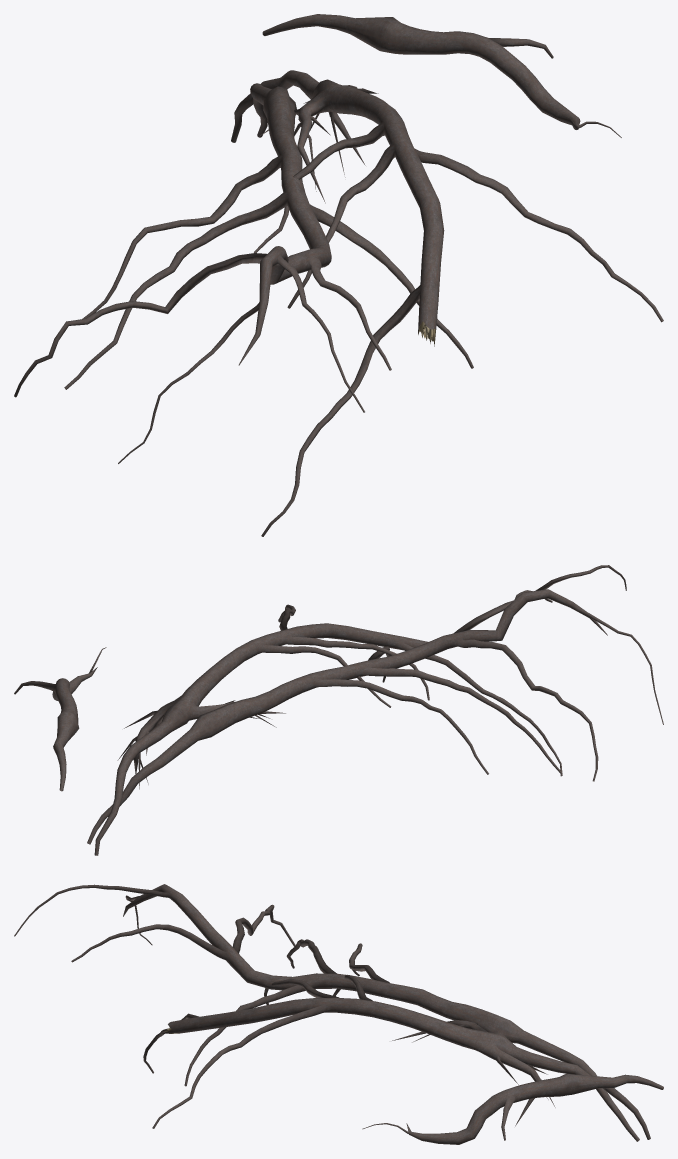
3 views of the same model, one above another, from view 1: azimuth 30°, elevation 25°; view 2: azimuth 150°, elevation 25°; view 3: azimuth 270°, elevation 25° (orthographic). The views are drawn at different scales.
Visible parts, largest first — view 1: SM_Roots_02_LOD0; view 2: SM_Roots_02_LOD0; view 3: SM_Roots_02_LOD0.
Part boxes in pixels (x1,y1,x2,y2): SM_Roots_02_LOD0: [14, 14, 663, 536]; SM_Roots_02_LOD0: [14, 565, 663, 855]; SM_Roots_02_LOD0: [14, 884, 663, 1144].
Size of the model in its own units: 3.81 by 1.43 by 4.38.
Materials: 1 (1 with a texture image).
